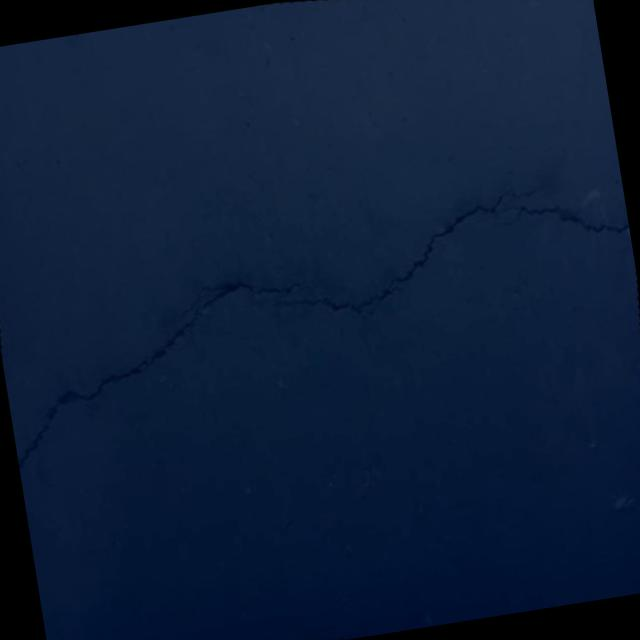crack: (0, 128, 640, 533)
